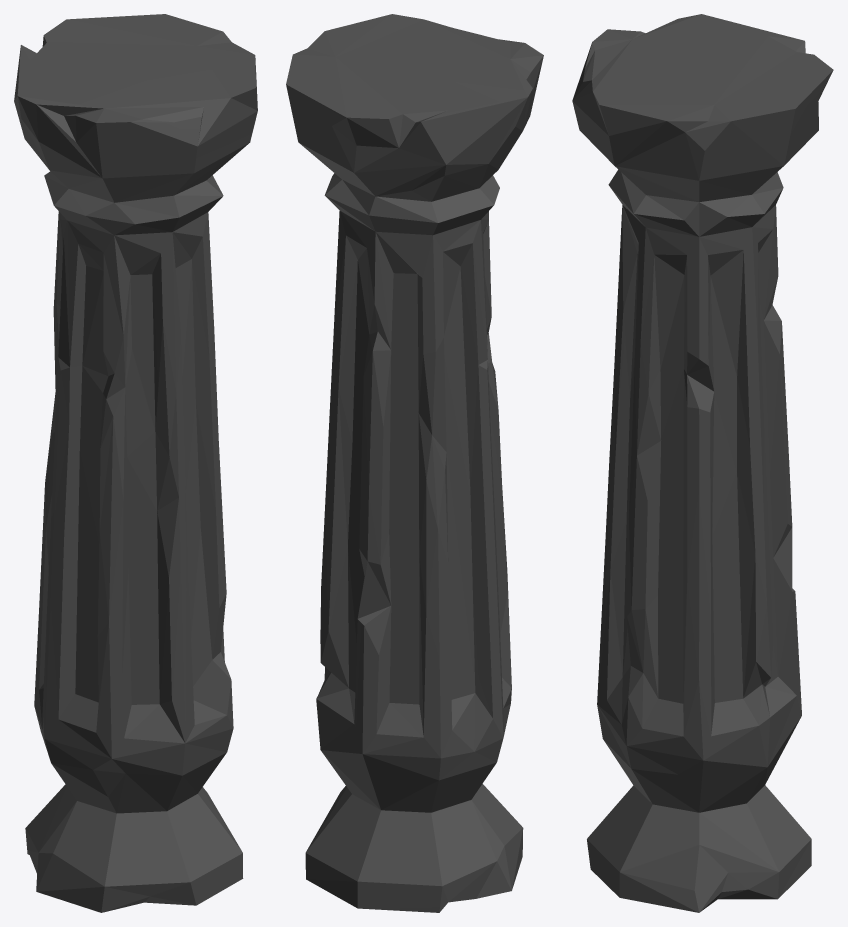
Rendered from SM_Env_Pillar_Round_02.glb.
3 views of the same model, side by side, from view 1: azimuth 30°, elevation 25°; view 2: azimuth 150°, elevation 25°; view 3: azimuth 270°, elevation 25° (orthographic).
Parts seen in each view (by area): view 1: SM_Env_Pillar_Round_02; view 2: SM_Env_Pillar_Round_02; view 3: SM_Env_Pillar_Round_02.
Boxes of the visible parts, bbox=[...] form: SM_Env_Pillar_Round_02: bbox=[14, 14, 257, 912]; SM_Env_Pillar_Round_02: bbox=[286, 14, 543, 912]; SM_Env_Pillar_Round_02: bbox=[572, 14, 833, 912].
Bounding box in the file's own units: 0.0109 × 0.0372 × 0.0111.
1 material, 1 textured.
